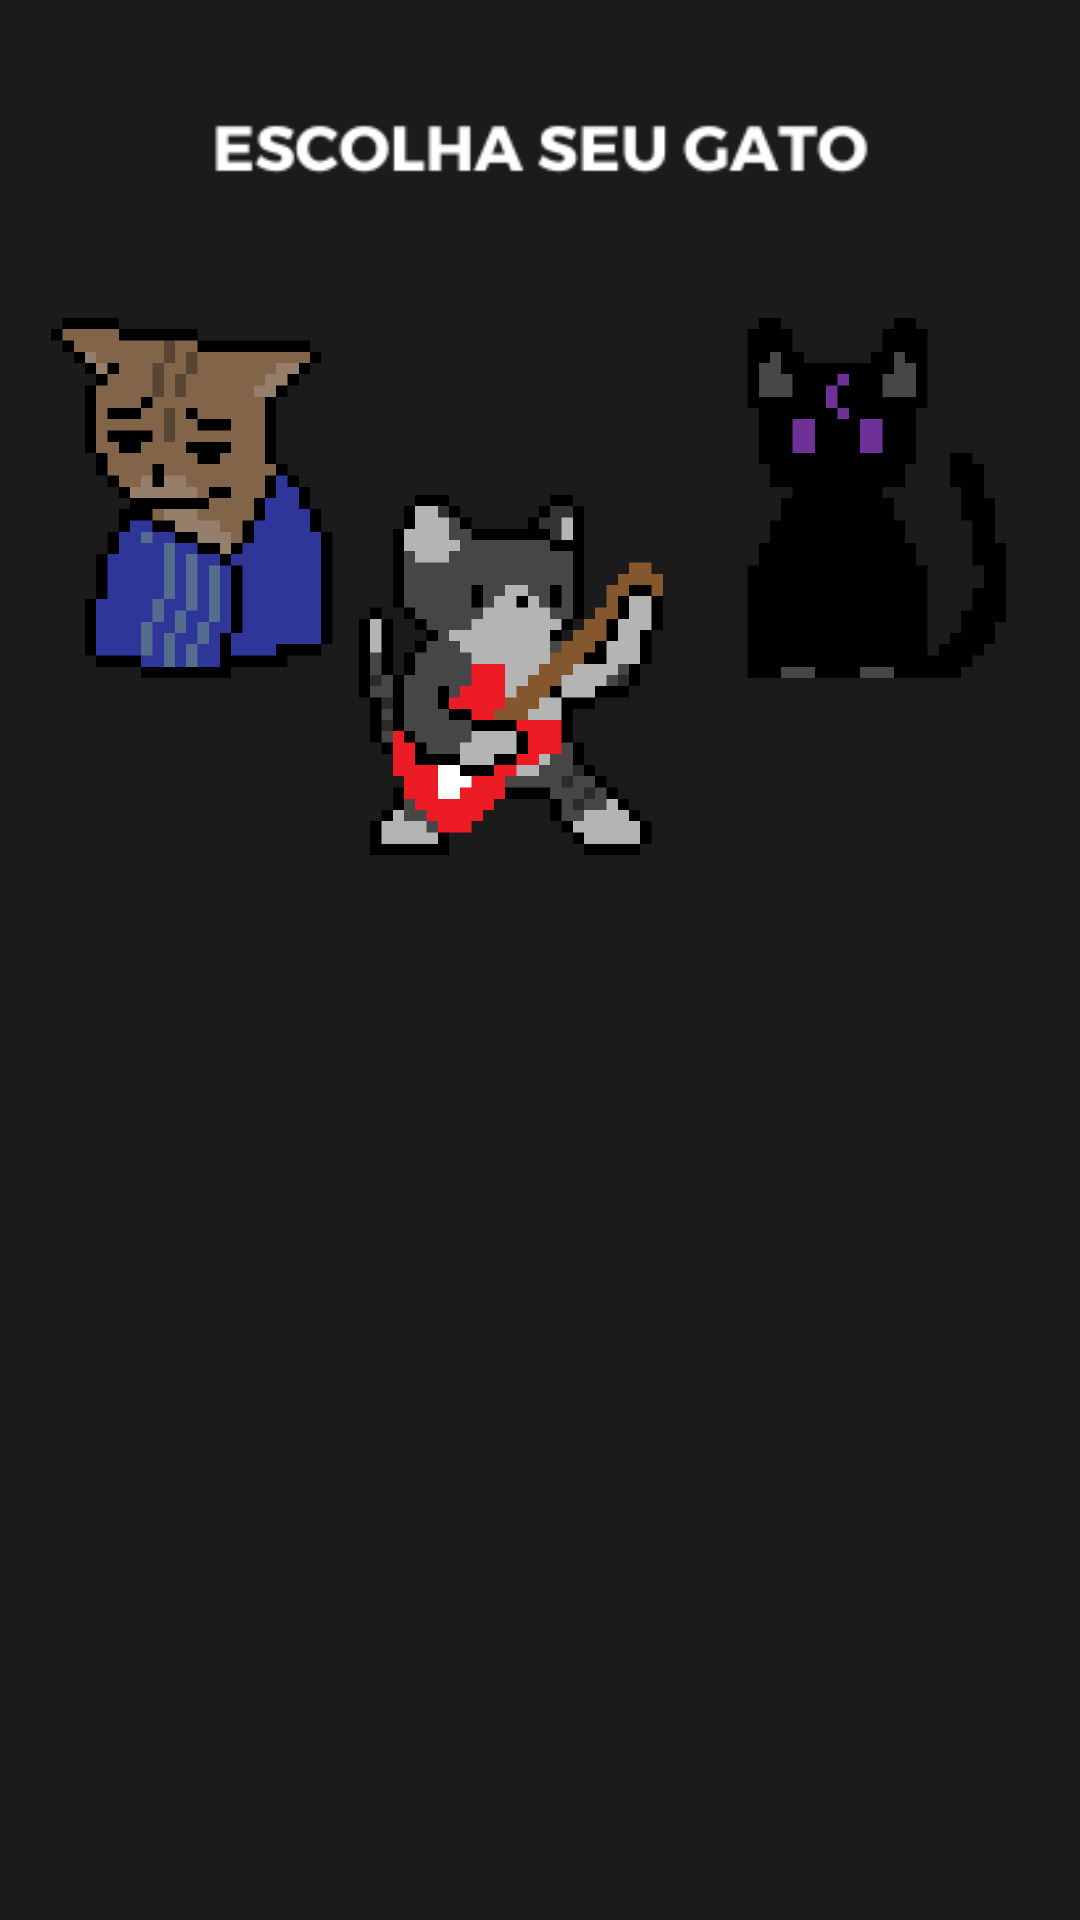

Icon bounding boxes for this 1080*1920 phone screenshot, format (x1, y1, x2, y2):
cattwash: (51, 318, 332, 678)
mooncat: (748, 318, 1006, 678)
voltcat: (359, 495, 663, 855)
